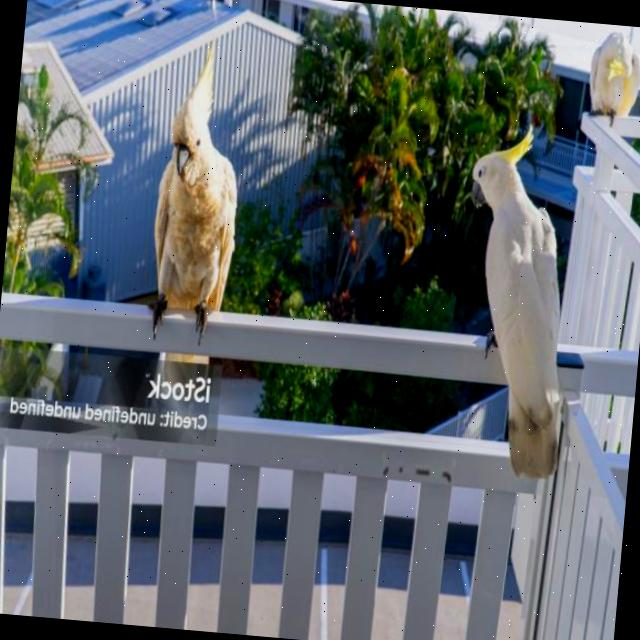Kakatua Putih: (422, 112, 600, 492), (120, 41, 276, 362)
